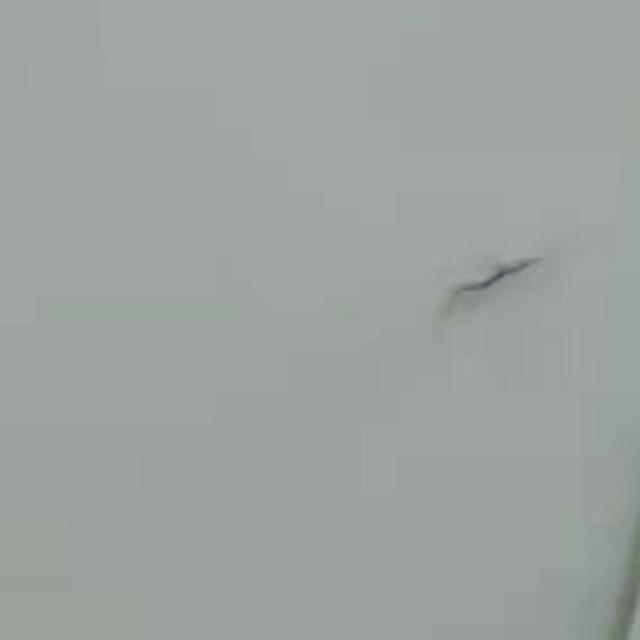crack: (456, 256, 541, 298)
